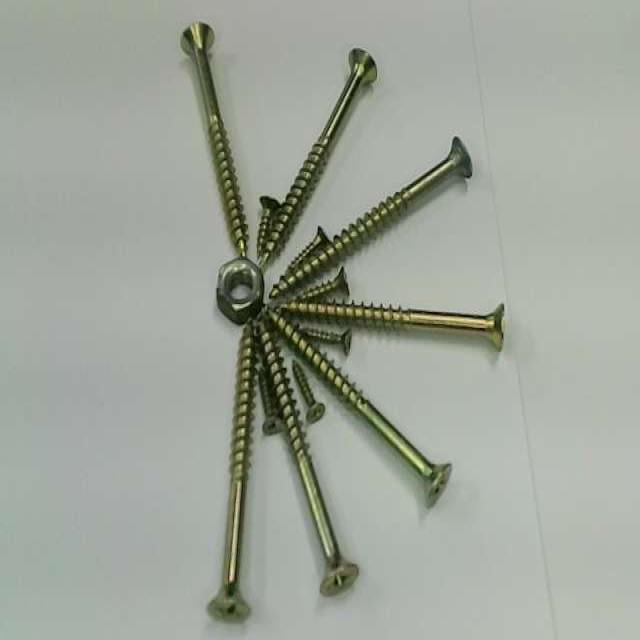Parafuso: (265, 309, 449, 504), (271, 137, 471, 299), (258, 319, 358, 595), (258, 48, 376, 267), (181, 21, 246, 256), (209, 321, 256, 619), (278, 301, 503, 348), (286, 225, 329, 271), (293, 360, 324, 420), (299, 267, 349, 300), (258, 368, 282, 432), (259, 196, 279, 259), (302, 328, 350, 353)
Porca: (217, 257, 263, 324)
